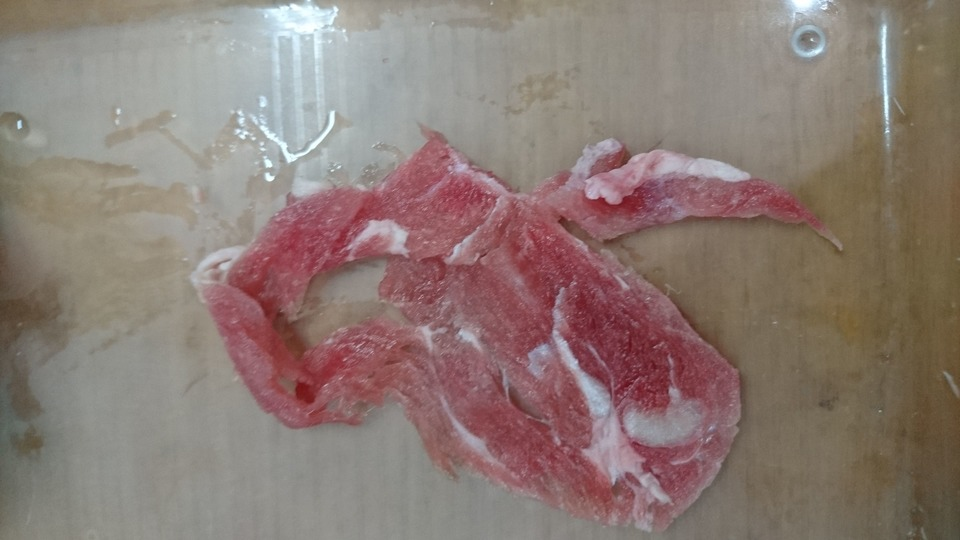restructured meat: (211, 158, 816, 511)
